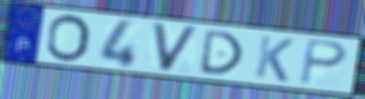4: (98, 17, 140, 70)
D: (197, 29, 246, 76)
K: (252, 33, 296, 84)
O: (43, 13, 92, 64)
P: (298, 37, 350, 86)
V: (149, 21, 202, 74)
